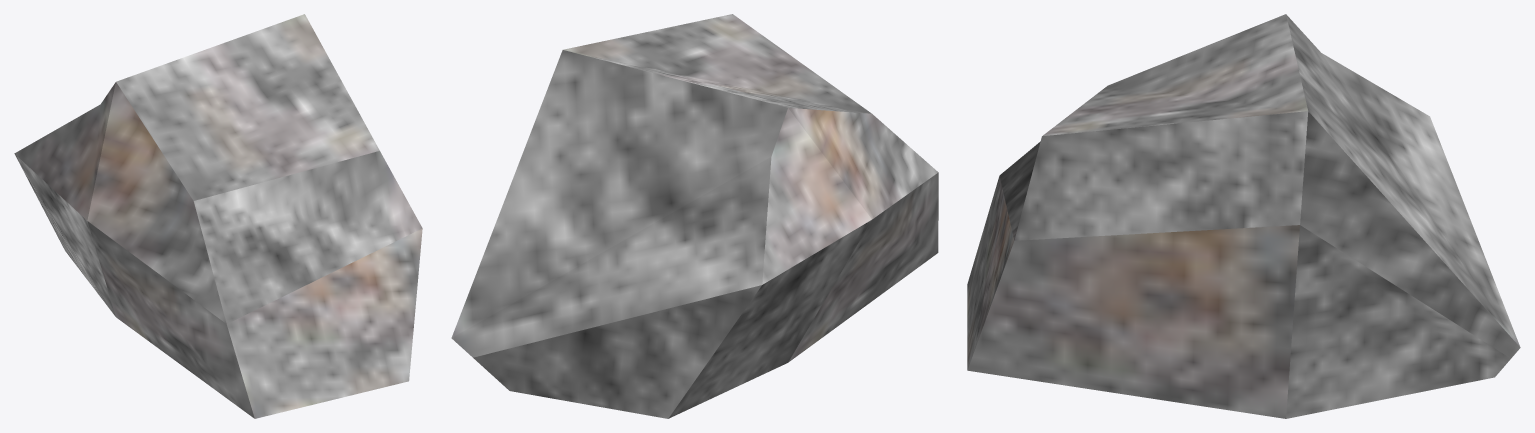
Rendered from Stone_4.fbx.
3 views of the same model, side by side, from view 1: azimuth 30°, elevation 25°; view 2: azimuth 150°, elevation 25°; view 3: azimuth 270°, elevation 25° (orthographic). The views are drawn at different scales.
Parts seen in each view (by area): view 1: Stone1; view 2: Stone1; view 3: Stone1.
Part boxes in pixels (<box>): Stone1: <box>14,14,422,418</box>; Stone1: <box>451,14,938,418</box>; Stone1: <box>967,14,1520,418</box>.
Bounding box in the file's own units: 52.11 × 42.02 × 74.11.
1 material, 1 textured.
